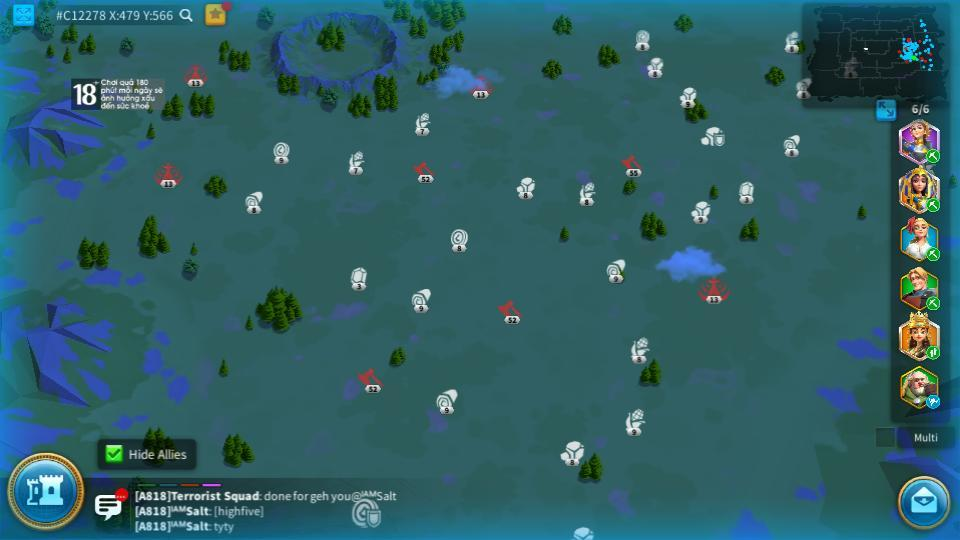gem-z-out: (348, 267, 369, 289), (633, 29, 652, 49), (737, 181, 754, 203)
march_idle: (925, 396, 942, 408)
march_marching: (925, 197, 941, 212), (925, 347, 941, 359), (925, 149, 941, 161), (925, 297, 942, 308)
